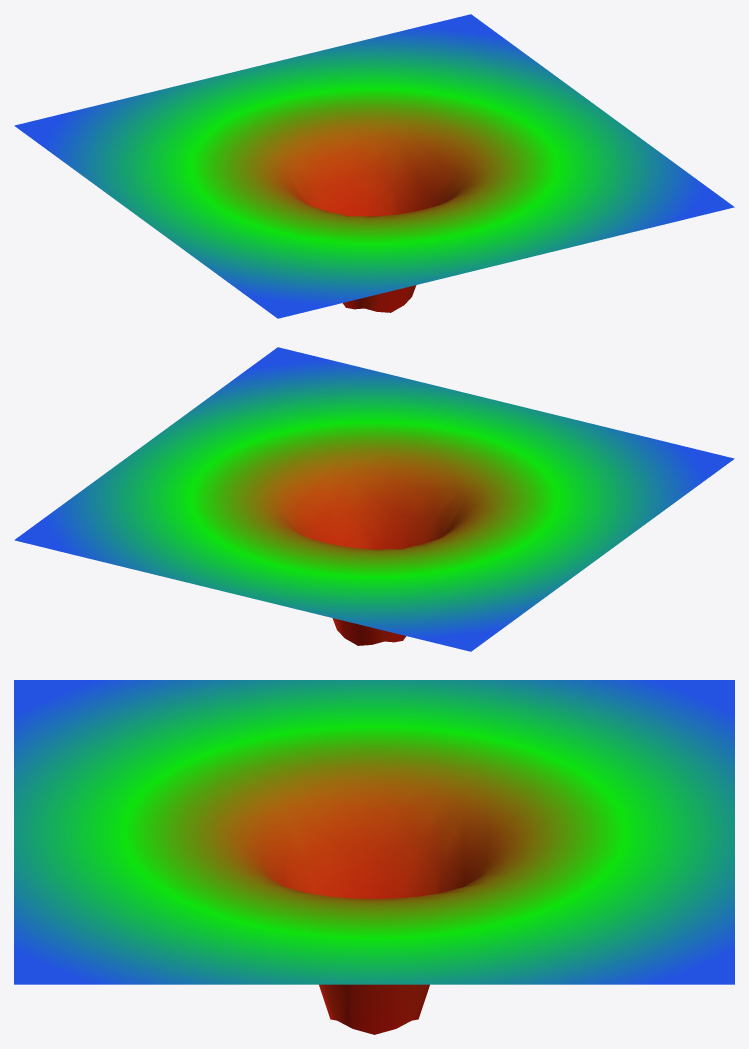
The model's file is vaakum.obj.
3 renders of one model, top to bottom at view 1: azimuth 30°, elevation 25°; view 2: azimuth 150°, elevation 25°; view 3: azimuth 270°, elevation 25°, orthographic. The views are drawn at different scales.
Visible parts, largest first — view 1: pasted__polyToSubd1 group2; view 2: pasted__polyToSubd1 group2; view 3: pasted__polyToSubd1 group2.
Part boxes in pixels (x1=…): pasted__polyToSubd1 group2: x1=14, y1=14, x2=734, y2=318; pasted__polyToSubd1 group2: x1=14, y1=347, x2=734, y2=651; pasted__polyToSubd1 group2: x1=14, y1=680, x2=734, y2=1034.
Size of the model in its own units: 19.67 by 5.52 by 19.67.
1 material, 1 textured.
